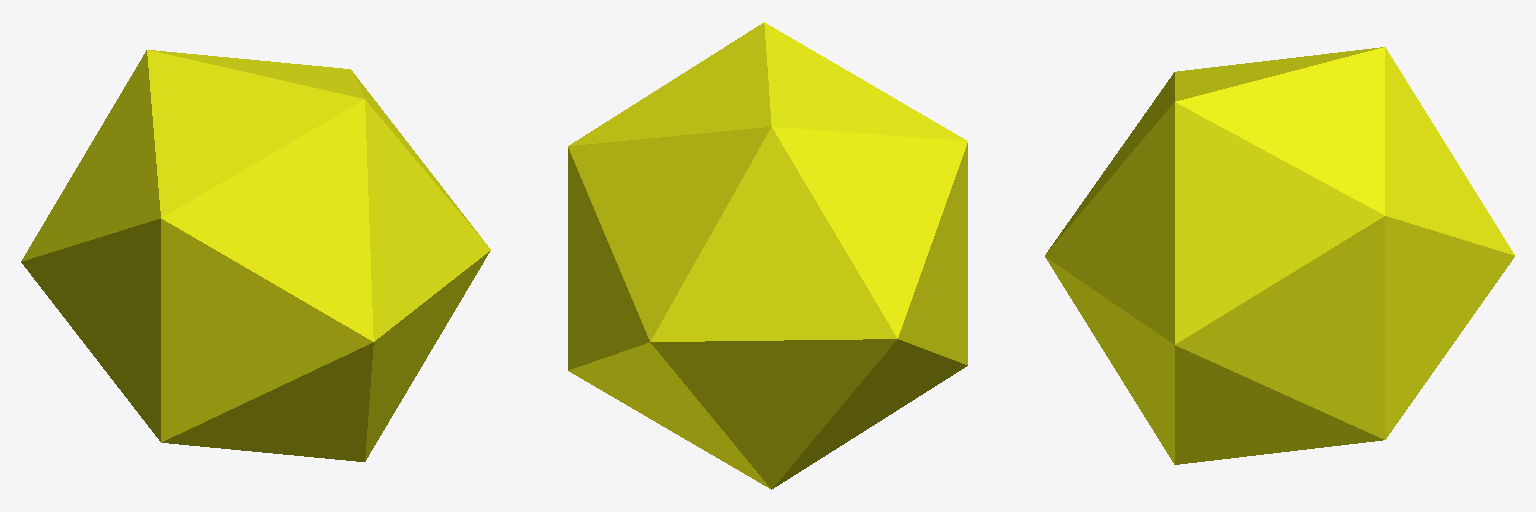
3 renders of one model, left to right at view 1: azimuth 30°, elevation 25°; view 2: azimuth 150°, elevation 25°; view 3: azimuth 270°, elevation 25°, orthographic.
Visible parts, largest first — view 1: pPlatonic1; view 2: pPlatonic1; view 3: pPlatonic1.
Part boxes in pixels (left/top/right/bottom): pPlatonic1: left=21, top=50, right=490, bottom=461; pPlatonic1: left=568, top=22, right=967, bottom=489; pPlatonic1: left=1045, top=47, right=1514, bottom=464.
Bounding box in the file's own units: 1.79 × 1.7 × 2.
1 materials, 1 textured.